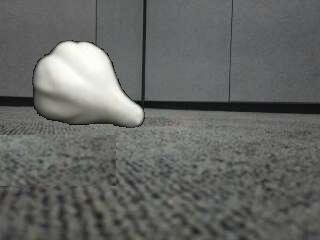Garlic: (30, 41, 146, 129)
